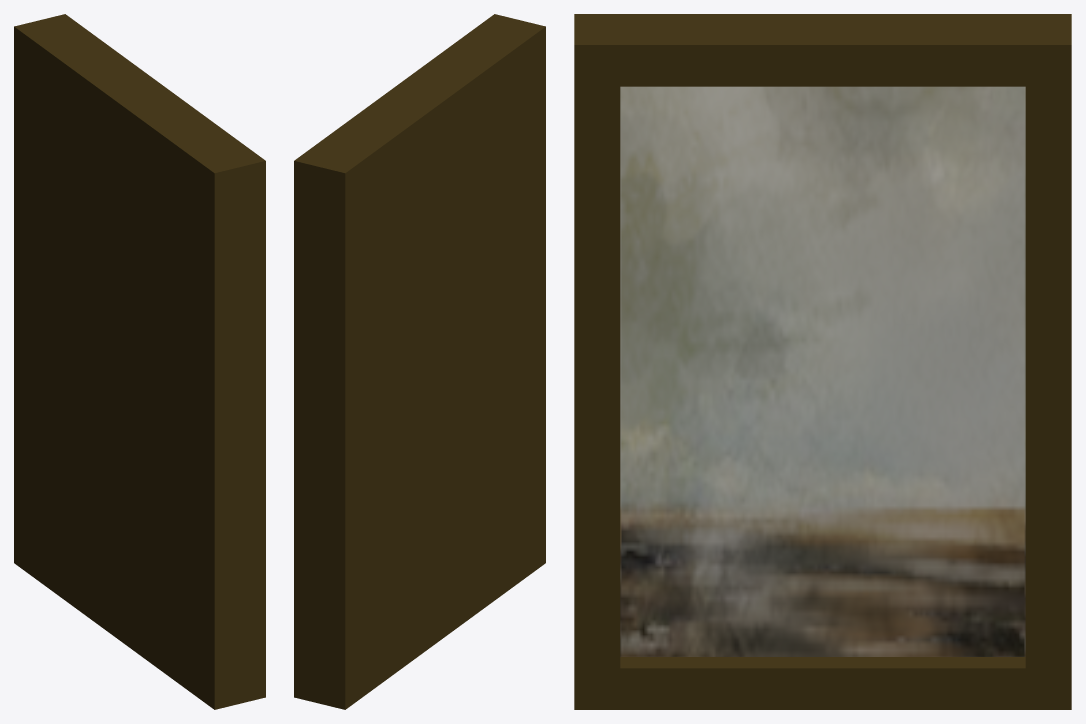
The model's file is Quadro 3.fbx.
3 renders of one model, left to right at view 1: azimuth 30°, elevation 25°; view 2: azimuth 150°, elevation 25°; view 3: azimuth 270°, elevation 25°, orthographic. The views are drawn at different scales.
Visible parts, largest first — view 1: Cube.027; view 2: Cube.027; view 3: Cube.027.
Part boxes in pixels (<box>): Cube.027: <box>14,14,265,709</box>; Cube.027: <box>294,14,545,709</box>; Cube.027: <box>574,14,1071,709</box>.
Size of the model in its own units: 10 by 100 by 67.74.
